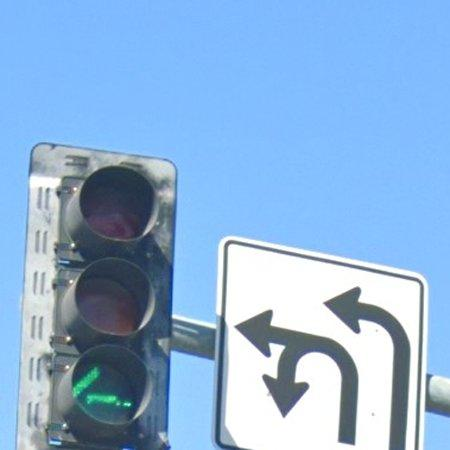traffic lights: (21, 138, 181, 450), (226, 292, 380, 446)
